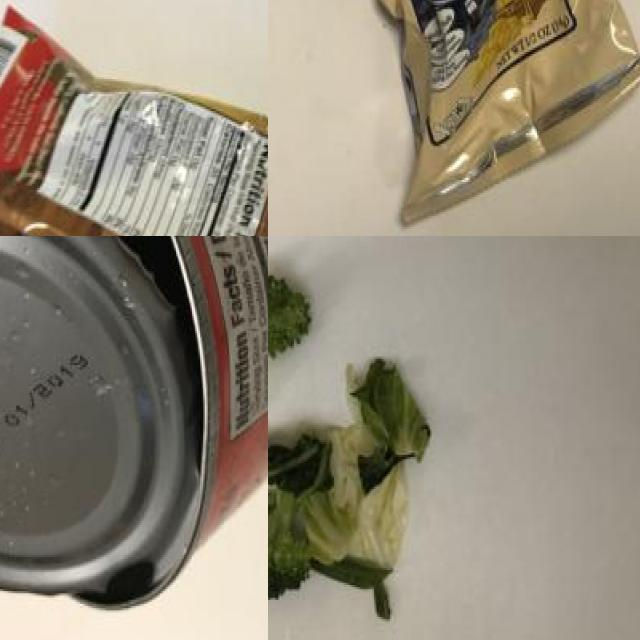compost: (268, 248, 437, 640)
plastic: (0, 236, 268, 572)
trash: (275, 0, 640, 207), (0, 3, 268, 236)
